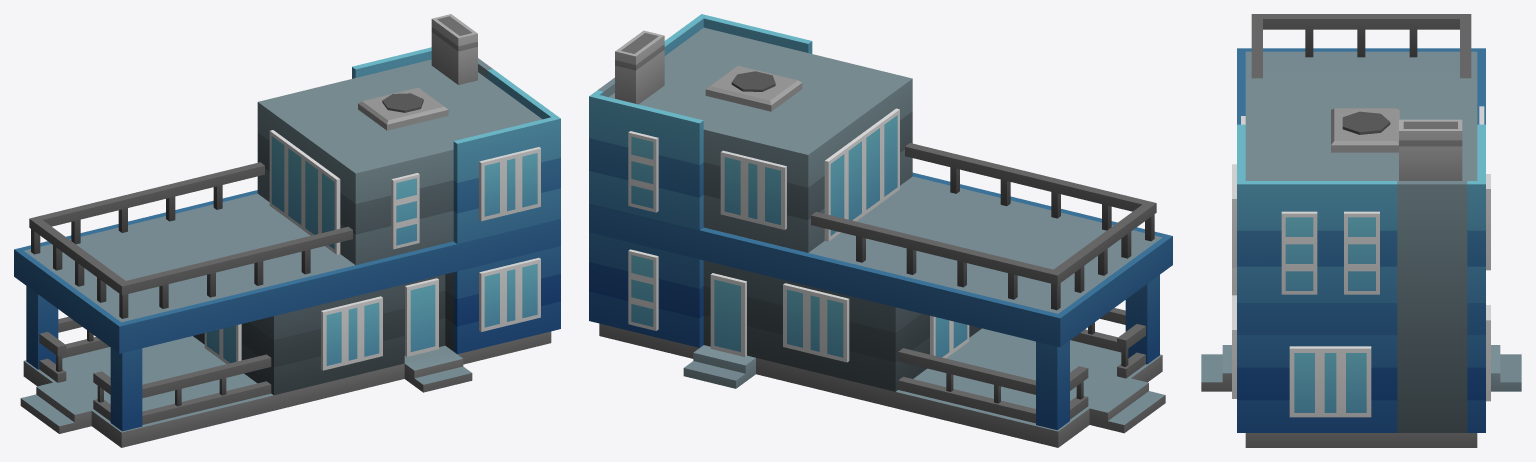
Rendered from modern cottage with pool.fbx.
The picture shows the model from 3 angles, left to right: view 1: azimuth 30°, elevation 25°; view 2: azimuth 150°, elevation 25°; view 3: azimuth 270°, elevation 25°; orthographic projection. The views are drawn at different scales.
Visible parts, largest first — view 1: modern_cottage_with_pool; view 2: modern_cottage_with_pool; view 3: modern_cottage_with_pool.
Boxes of the visible parts, x1=… form: modern_cottage_with_pool: x1=14, y1=14, x2=560, y2=447; modern_cottage_with_pool: x1=589, y1=14, x2=1172, y2=447; modern_cottage_with_pool: x1=1201, y1=14, x2=1521, y2=447.
Bounding box in the file's own units: 1479 × 791 × 735.
Materials: 1 (1 with a texture image).
